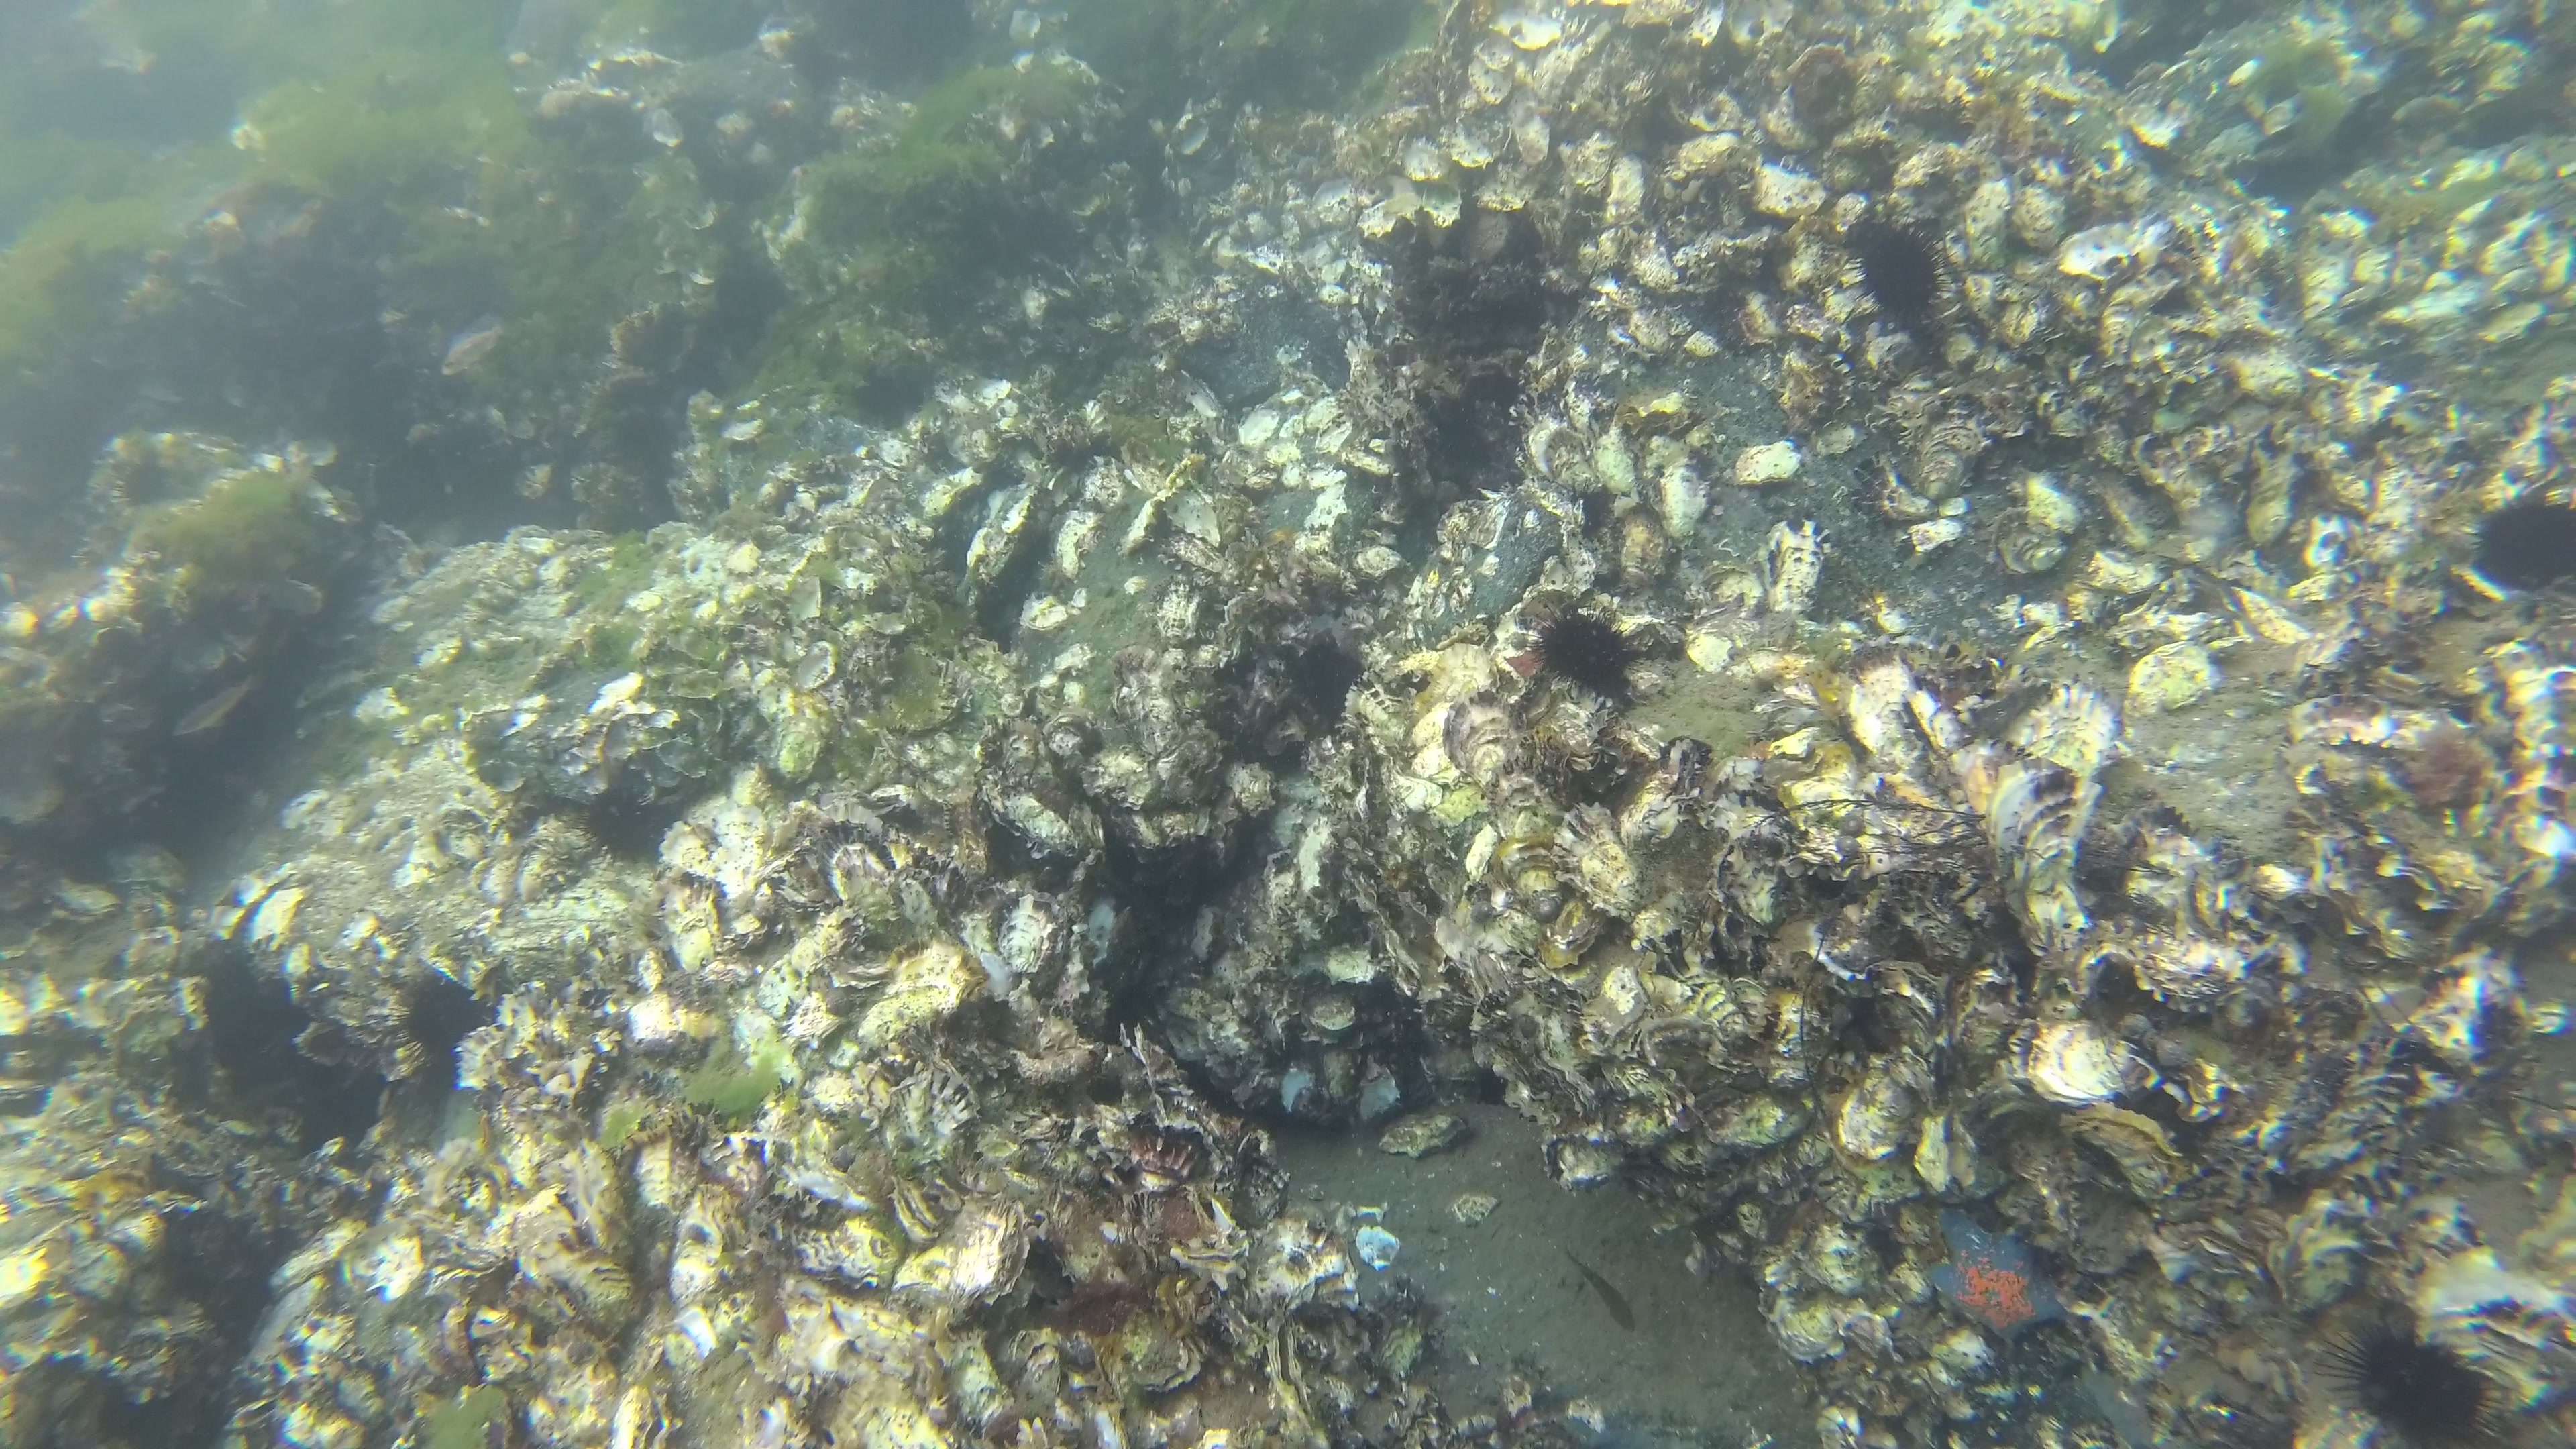echinus: (2325, 1316, 2511, 1449), (1835, 214, 1966, 326), (2459, 481, 2576, 603), (377, 962, 487, 1079), (1530, 602, 1644, 706)
starfish: (1909, 1192, 2070, 1350)
